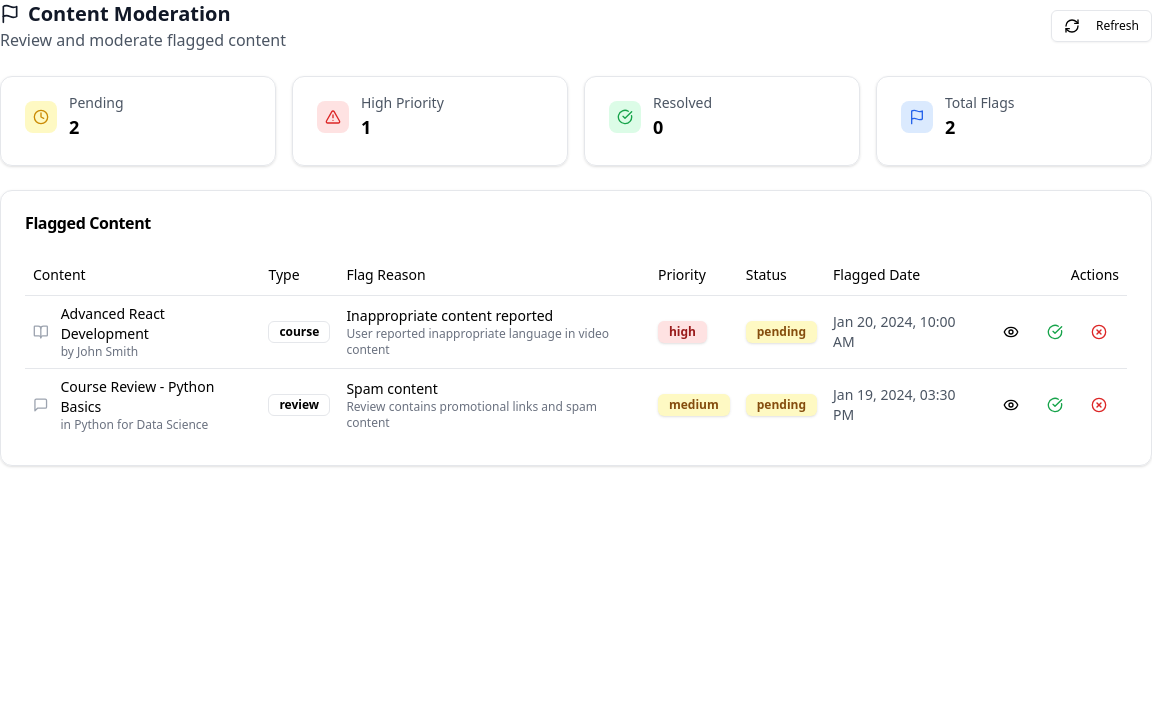
Scenario: ContentModerationPanel › validates moderation reason input
Click the button titled "Approve Content" in the row of "Advanced React Development".
click(1055, 332)  # box [1035, 316, 1075, 348]
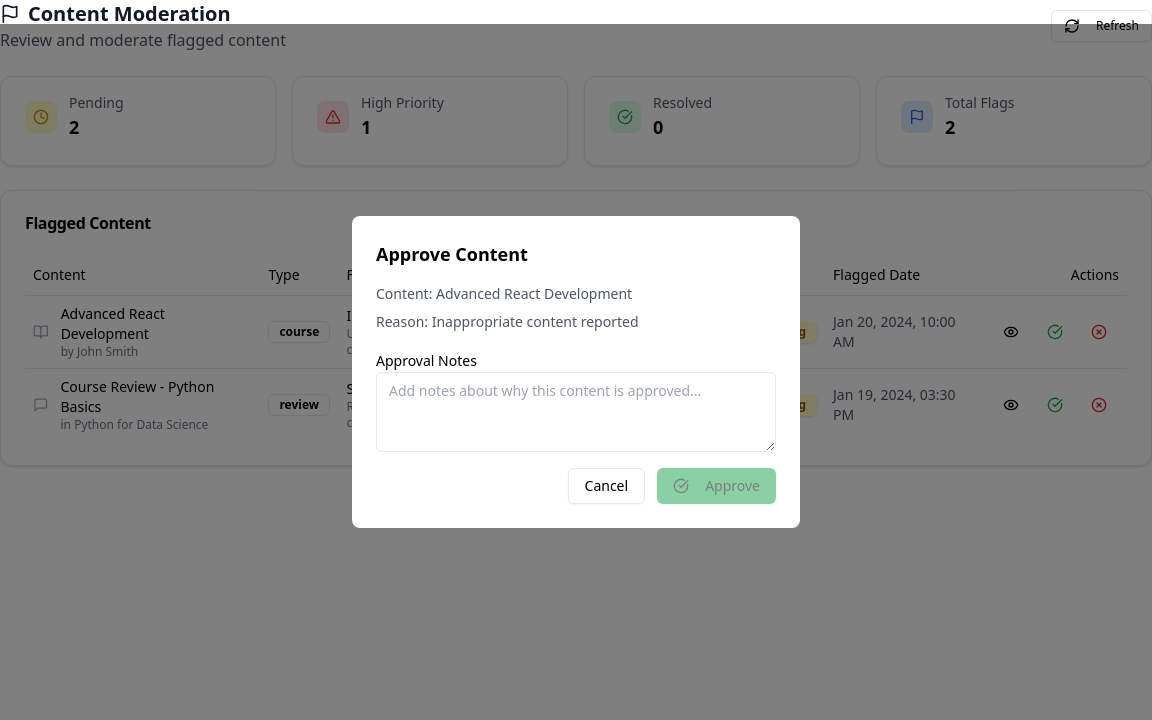
Check: the button "Approve" is disabled, box [657, 468, 776, 504]
Type "Content is appropriate" into the text box with placeholder "Add notes about why this content is approved...".
click(576, 412); type("Content is appropriate")  # box [376, 372, 776, 452]
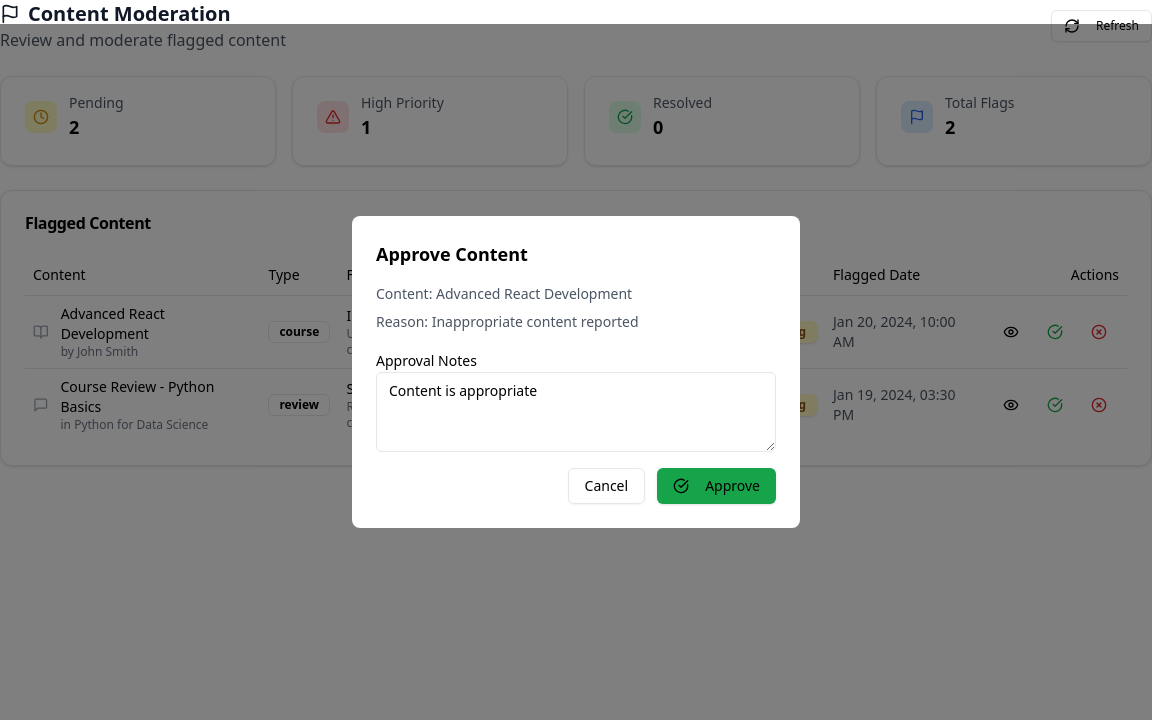
Check: the button "Approve" is enabled, box [657, 468, 776, 504]
